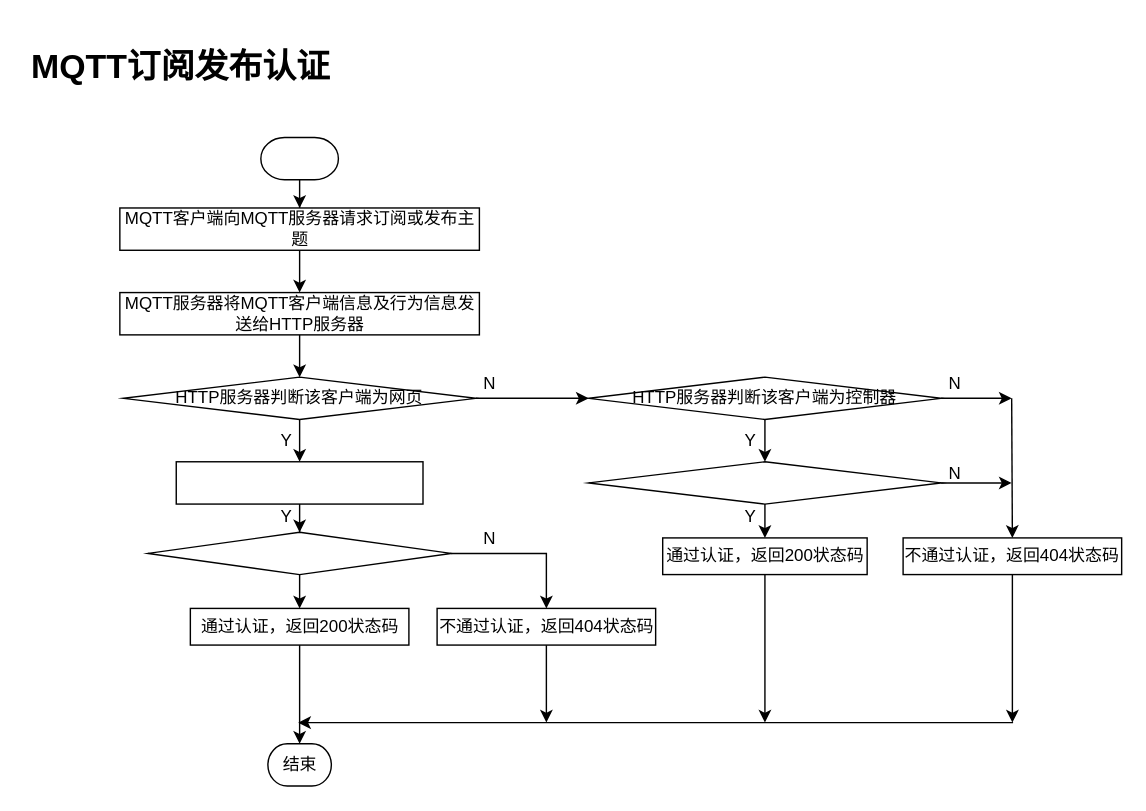
Some shapes in this 1146 by 811 pixel diagram are drawn without their labels. Each missing label, with the centre of its shape:
"从主题的场中获取控制器的ID" goes at (x=299, y=482).
"开始" goes at (x=298, y=158).
"控制器是不是主场" goes at (x=764, y=482).
"用户是否拥有该控制器" goes at (x=299, y=553).
